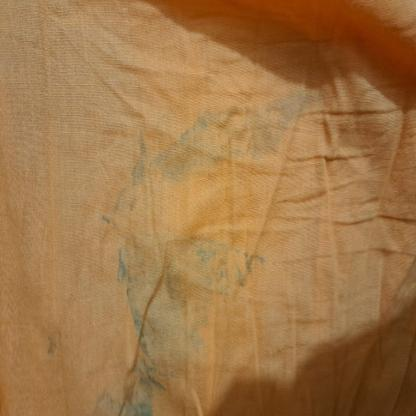spot: (90, 223, 283, 416), (126, 88, 337, 204), (44, 328, 70, 362), (112, 184, 134, 216), (101, 208, 112, 228)
